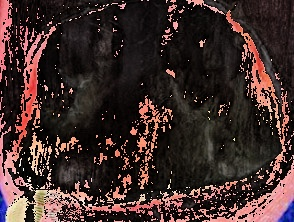Nail_psoriasis: (5, 0, 292, 206)
